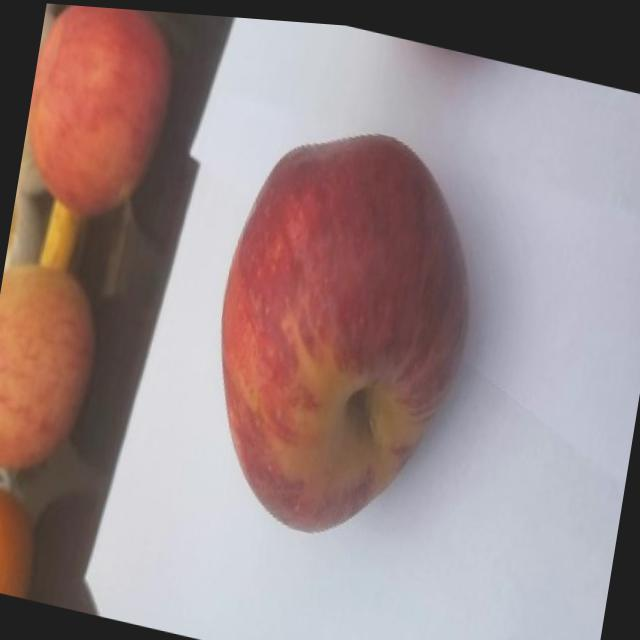Apple: (189, 97, 495, 561), (14, 1, 183, 234), (0, 257, 107, 487), (0, 482, 43, 600)
